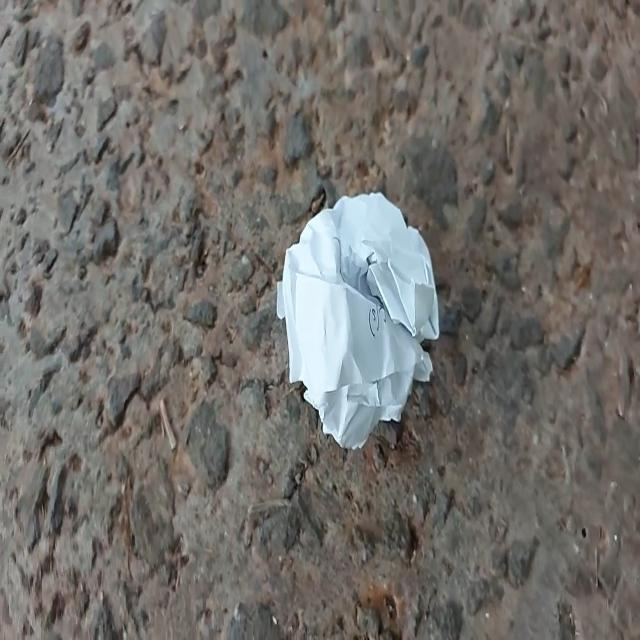Paper: (256, 170, 452, 454)
